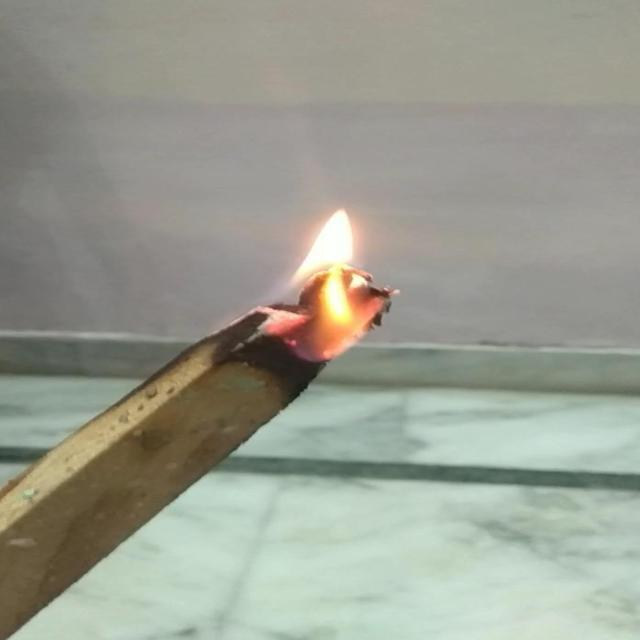smoke: (252, 201, 403, 370)
